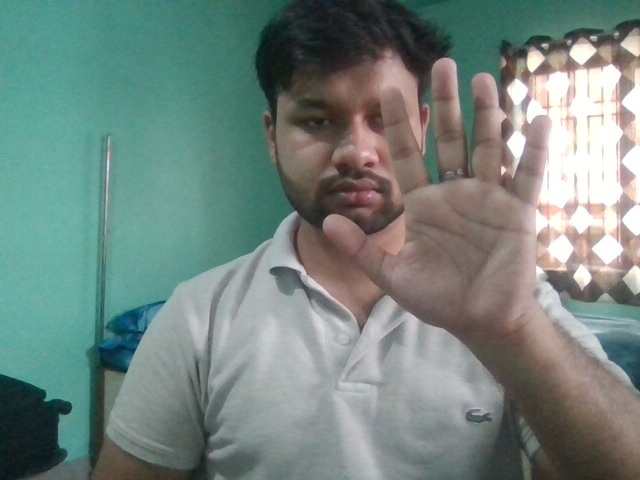Hello: (321, 55, 555, 341)
